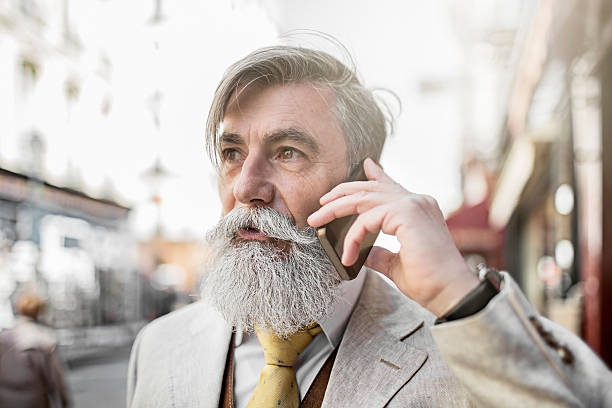phone: (311, 155, 389, 292)
talk: (212, 126, 446, 303)
